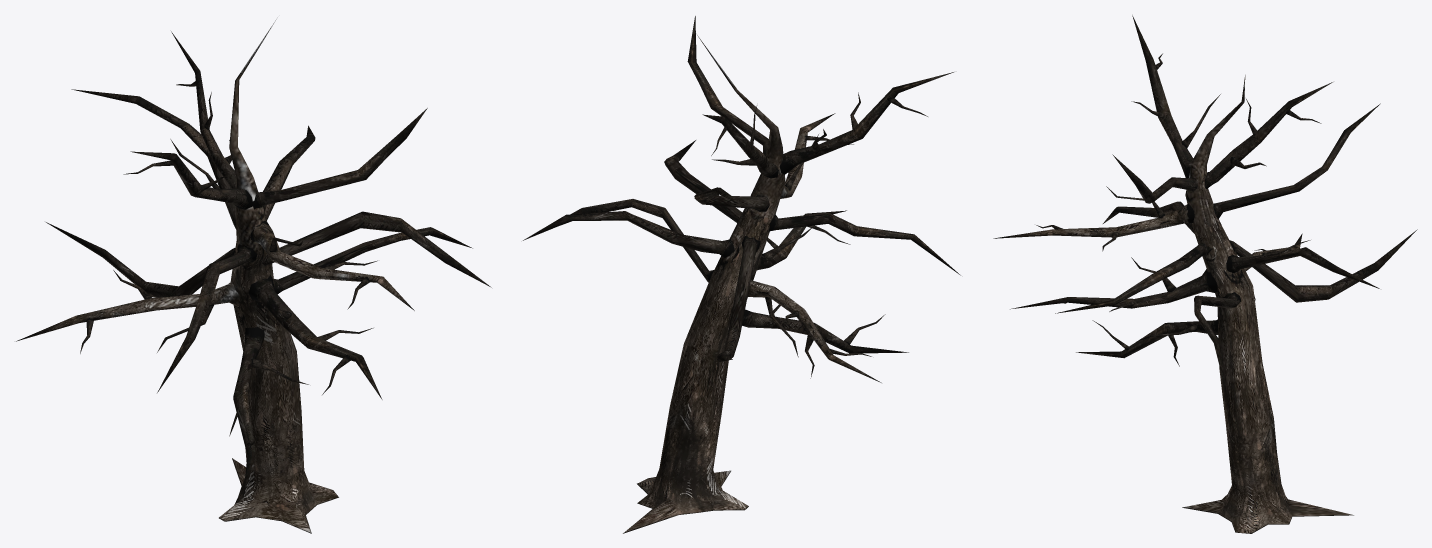
Rendered from arbre_mort3.fbx.
The picture shows the model from 3 angles, left to right: view 1: azimuth 30°, elevation 25°; view 2: azimuth 150°, elevation 25°; view 3: azimuth 270°, elevation 25°; orthographic projection. The views are drawn at different scales.
Parts seen in each view (by area): view 1: polySurface718; view 2: polySurface718; view 3: polySurface718.
Boxes of the visible parts, bbox=[...] form: polySurface718: bbox=[16, 17, 491, 533]; polySurface718: bbox=[523, 16, 960, 533]; polySurface718: bbox=[993, 15, 1417, 533].
Size of the model in its own units: 846 by 956 by 847.
